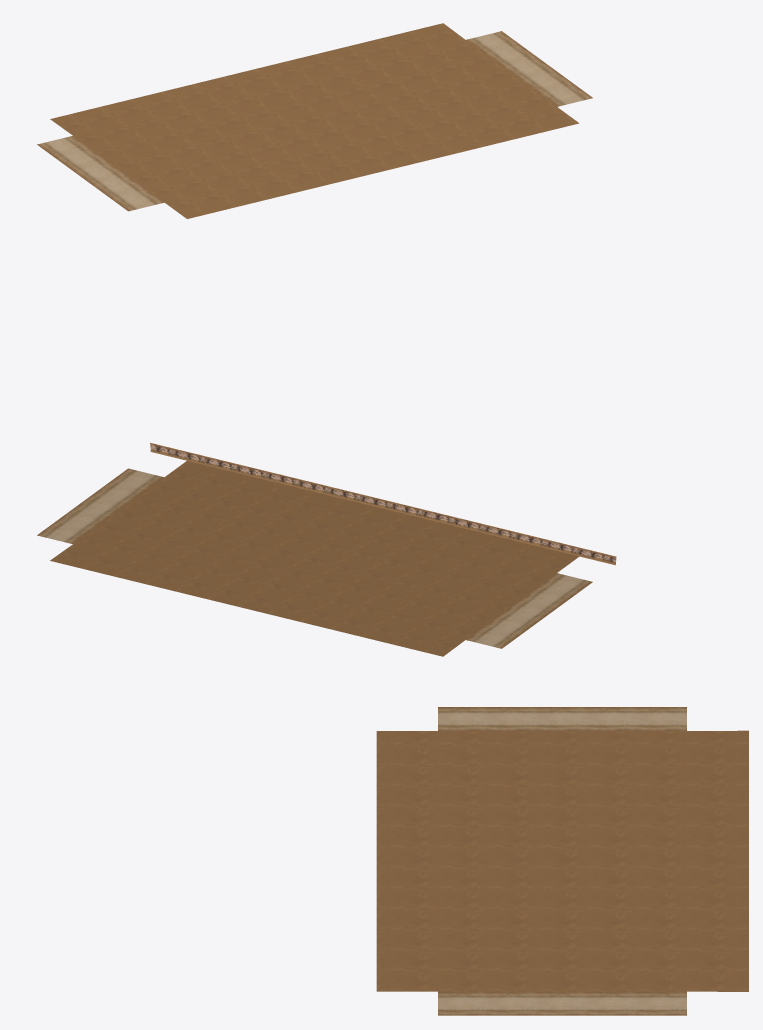
3 renders of one model, top to bottom at view 1: azimuth 30°, elevation 25°; view 2: azimuth 150°, elevation 25°; view 3: azimuth 270°, elevation 25°, orthographic. The views are drawn at different scales.
Parts seen in each view (by area): view 1: d6; view 2: d6; view 3: d6.
Boxes of the visible parts, bbox=[...] form: d6: bbox=[37, 23, 592, 218]; d6: bbox=[37, 443, 616, 656]; d6: bbox=[376, 707, 748, 1015].
Size of the model in its own units: 30003 by 554 by 30091.
Materials: 4 (4 with a texture image).
